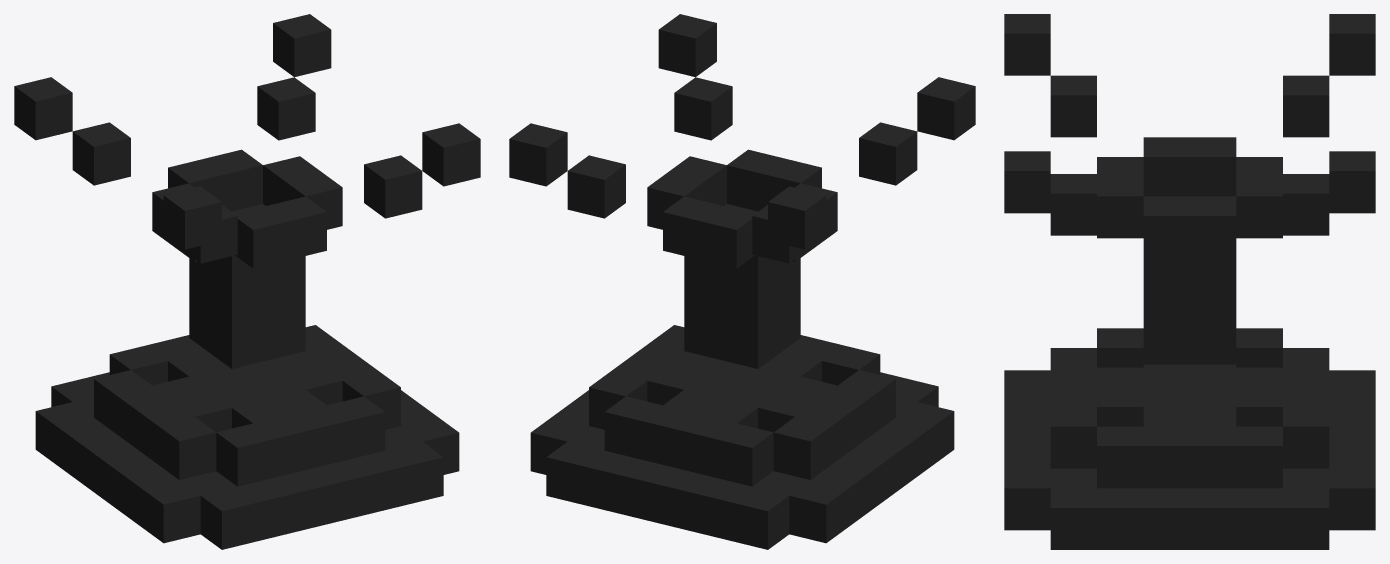
File: Terminal3-2.obj
3 views of the same model, side by side, from view 1: azimuth 30°, elevation 25°; view 2: azimuth 150°, elevation 25°; view 3: azimuth 270°, elevation 25° (orthographic). The views are drawn at different scales.
Size of the model in its own units: 0.8 by 0.9 by 0.8.
Materials: 1 (1 with a texture image).
